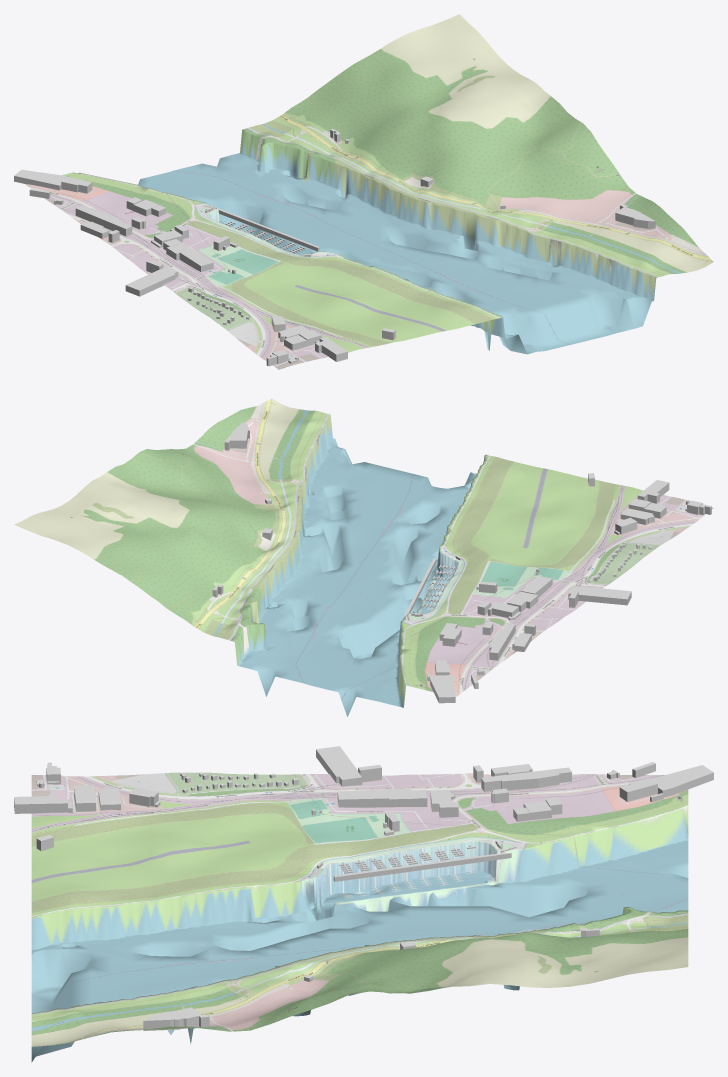
File: linz_harbour.dae
3 renders of one model, top to bottom at view 1: azimuth 30°, elevation 25°; view 2: azimuth 150°, elevation 25°; view 3: azimuth 270°, elevation 25°, orthographic. The views are drawn at different scales.
Visible parts, largest first — view 1: Terrain, map.osm_buildings, Cube; view 2: Terrain, map.osm_buildings; view 3: Terrain, map.osm_buildings, Cube.
Part boxes in pixels (x1,y1,x2,y2): Terrain: [25, 14, 713, 369]; map.osm_buildings: [14, 128, 655, 366]; Cube: [215, 207, 319, 251]; Terrain: [14, 398, 713, 716]; map.osm_buildings: [212, 421, 711, 703]; Terrain: [31, 772, 688, 1062]; map.osm_buildings: [14, 746, 713, 1030]; Cube: [333, 852, 511, 881].
Size of the model in its own units: 1087 by 1087 by 246.
Materials: 3 (1 with a texture image).
